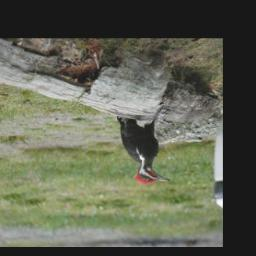Woodpecker: (116, 113, 171, 189)
